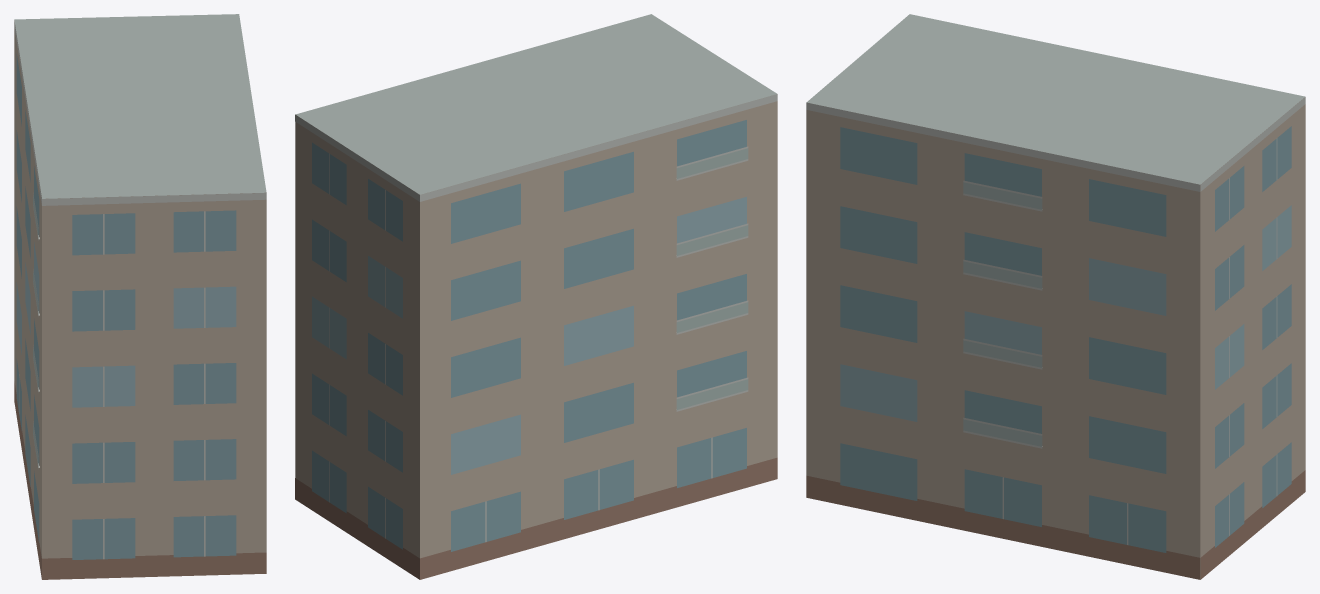
Rendered from survey-upis-32991698.glb.
3 renders of one model, left to right at view 1: azimuth 30°, elevation 25°; view 2: azimuth 150°, elevation 25°; view 3: azimuth 270°, elevation 25°, orthographic. The views are drawn at different scales.
Parts seen in each view (by area): view 1: survey-upis-32991698.tmp; view 2: survey-upis-32991698.tmp; view 3: survey-upis-32991698.tmp.
Part boxes in pixels (left/top/right/bottom): survey-upis-32991698.tmp: left=14, top=14, right=266, bottom=579; survey-upis-32991698.tmp: left=295, top=14, right=777, bottom=579; survey-upis-32991698.tmp: left=806, top=14, right=1305, bottom=579.
Size of the model in its own units: 12.24 by 13.2 by 15.12.
